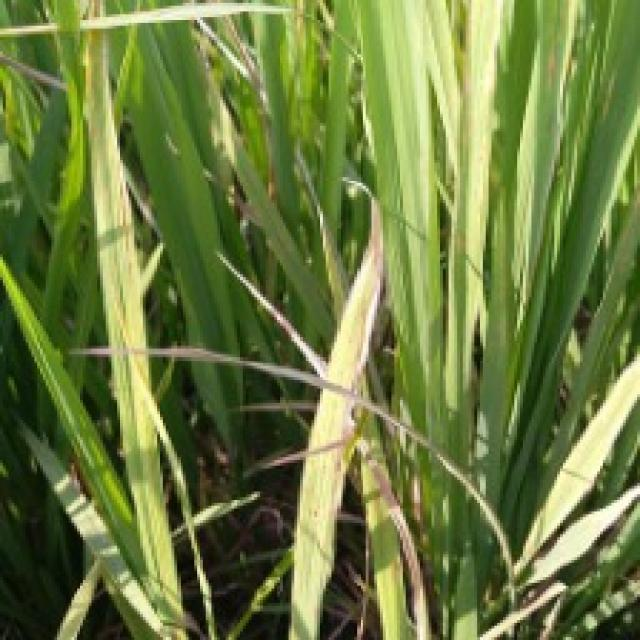Rice___Bacterial_Leaf_Blight: (287, 170, 385, 637)
